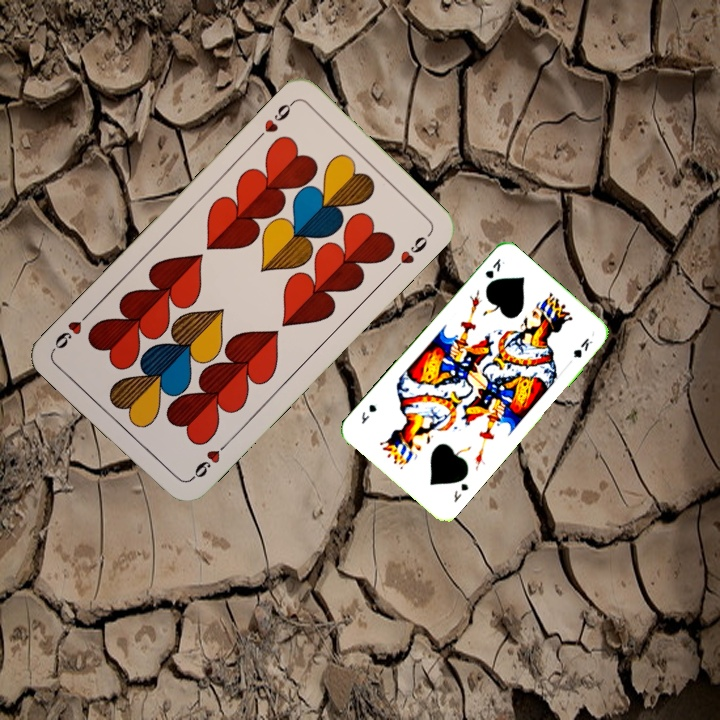GK: (481, 254, 508, 281), (450, 479, 471, 505)
H9: (185, 437, 232, 484), (251, 97, 297, 144)
